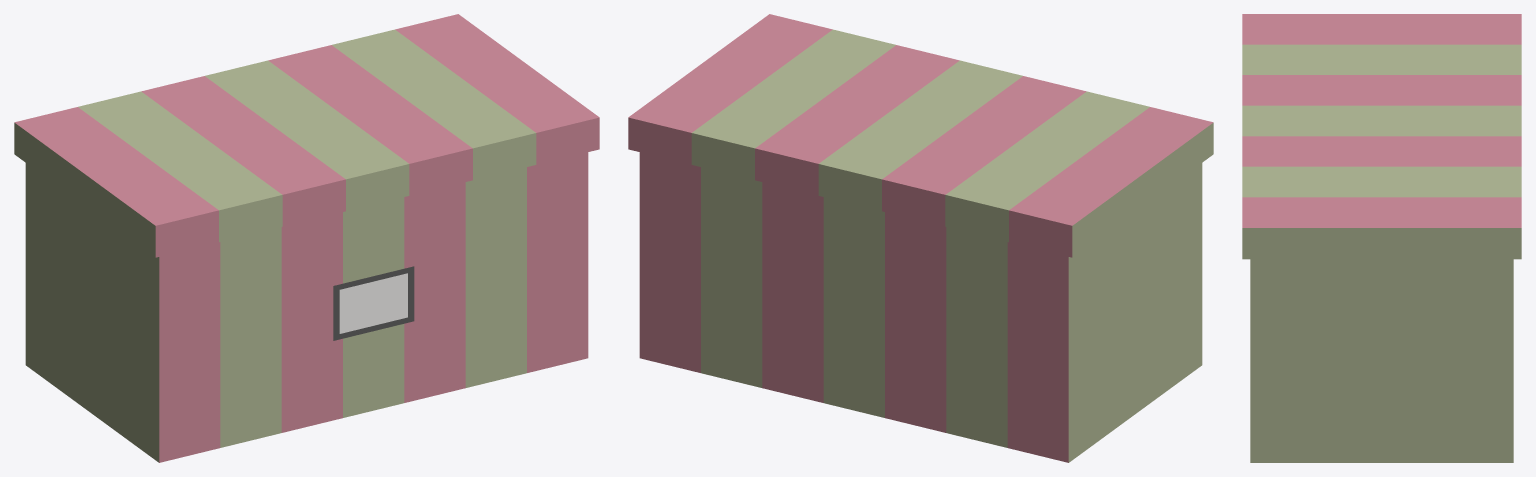
The model's file is storage_box_6.fbx.
3 renders of one model, left to right at view 1: azimuth 30°, elevation 25°; view 2: azimuth 150°, elevation 25°; view 3: azimuth 270°, elevation 25°, orthographic.
Parts seen in each view (by area): view 1: storage_box_6; view 2: storage_box_6; view 3: storage_box_6.
Boxes of the visible parts, <box> form: storage_box_6: <box>14,14,599,462</box>; storage_box_6: <box>628,14,1213,462</box>; storage_box_6: <box>1242,14,1521,462</box>.
Bounding box in the file's own units: 57.77 × 31.85 × 30.06.
